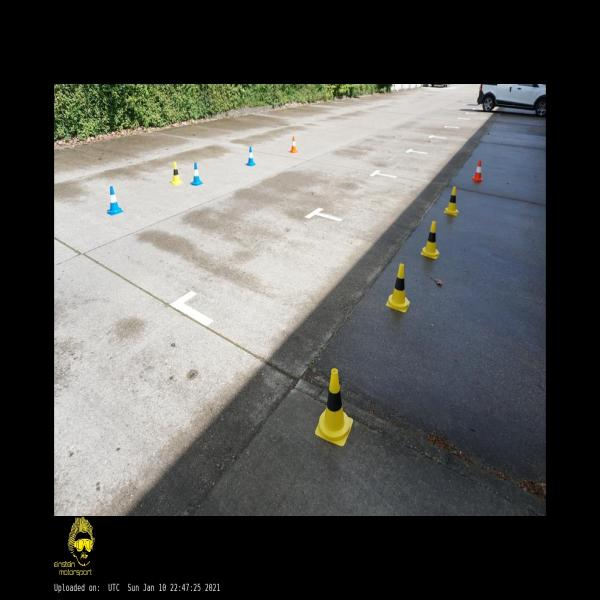blue_cone: (107, 186, 124, 216), (190, 163, 203, 186), (245, 146, 256, 166)
orange_cone: (472, 160, 483, 183), (289, 136, 298, 153)
yellow_cone: (315, 368, 353, 447), (386, 264, 410, 314), (421, 221, 440, 259), (444, 187, 459, 216), (170, 162, 183, 185)
